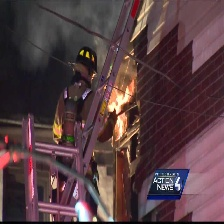fire: (109, 82, 136, 137)
smoke: (16, 1, 121, 53)
